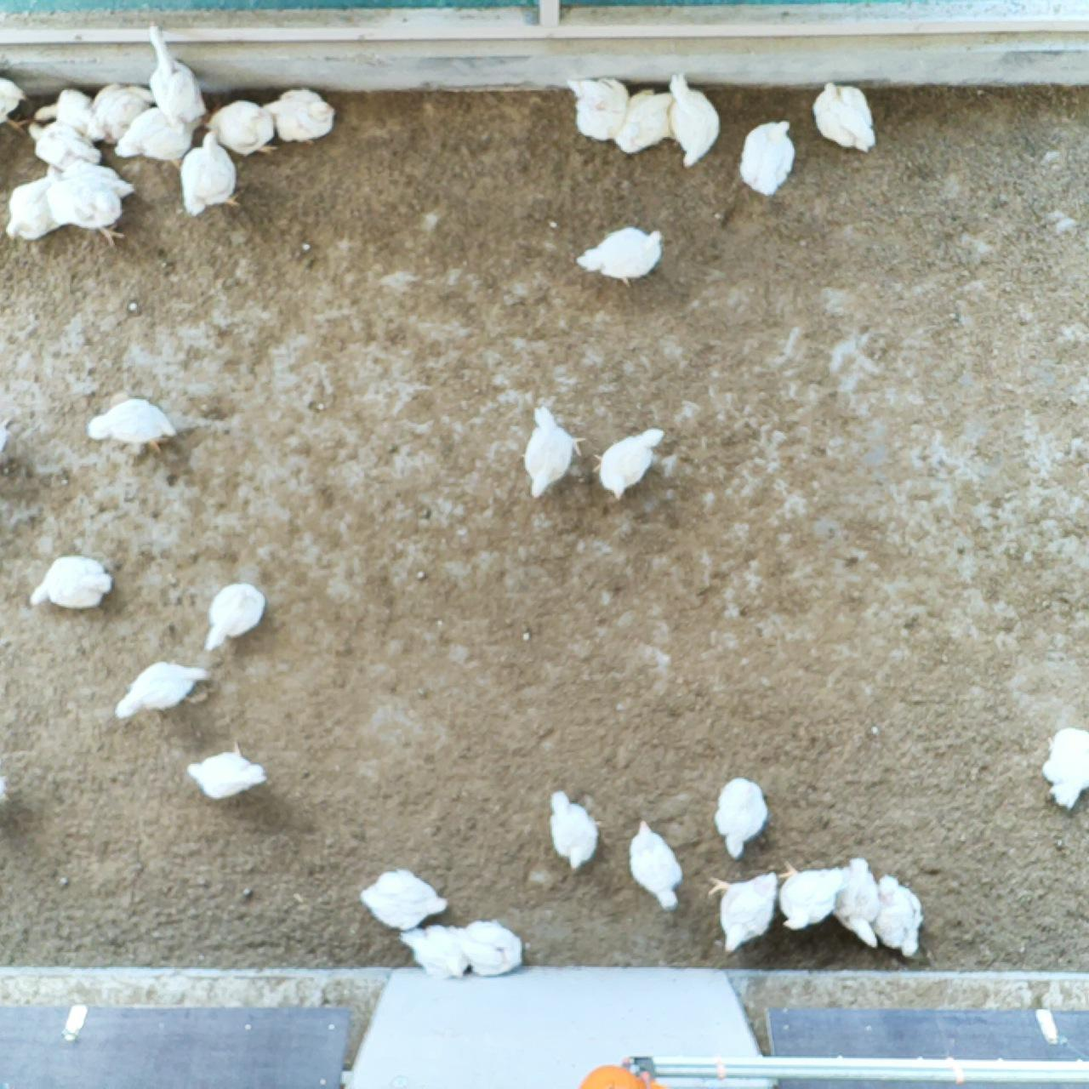chicken: (46, 161, 141, 257), (138, 19, 210, 129), (517, 401, 590, 503), (704, 867, 781, 963), (113, 657, 211, 723), (112, 102, 207, 170), (354, 863, 448, 931), (591, 425, 670, 504), (623, 815, 684, 916), (180, 124, 244, 219), (24, 551, 117, 616), (573, 225, 668, 287), (542, 783, 604, 877), (84, 396, 182, 455), (184, 737, 270, 804), (664, 70, 722, 169), (1031, 720, 1089, 816), (84, 76, 161, 148), (869, 871, 930, 961), (734, 115, 799, 198), (712, 774, 772, 863), (775, 858, 847, 932), (200, 581, 271, 656), (810, 80, 881, 155), (2, 163, 63, 249), (830, 855, 887, 946), (202, 94, 280, 160), (564, 71, 631, 147), (609, 85, 675, 160), (455, 915, 531, 980), (264, 85, 343, 147), (398, 921, 470, 984), (23, 121, 107, 167), (29, 83, 103, 126), (0, 70, 35, 135)
